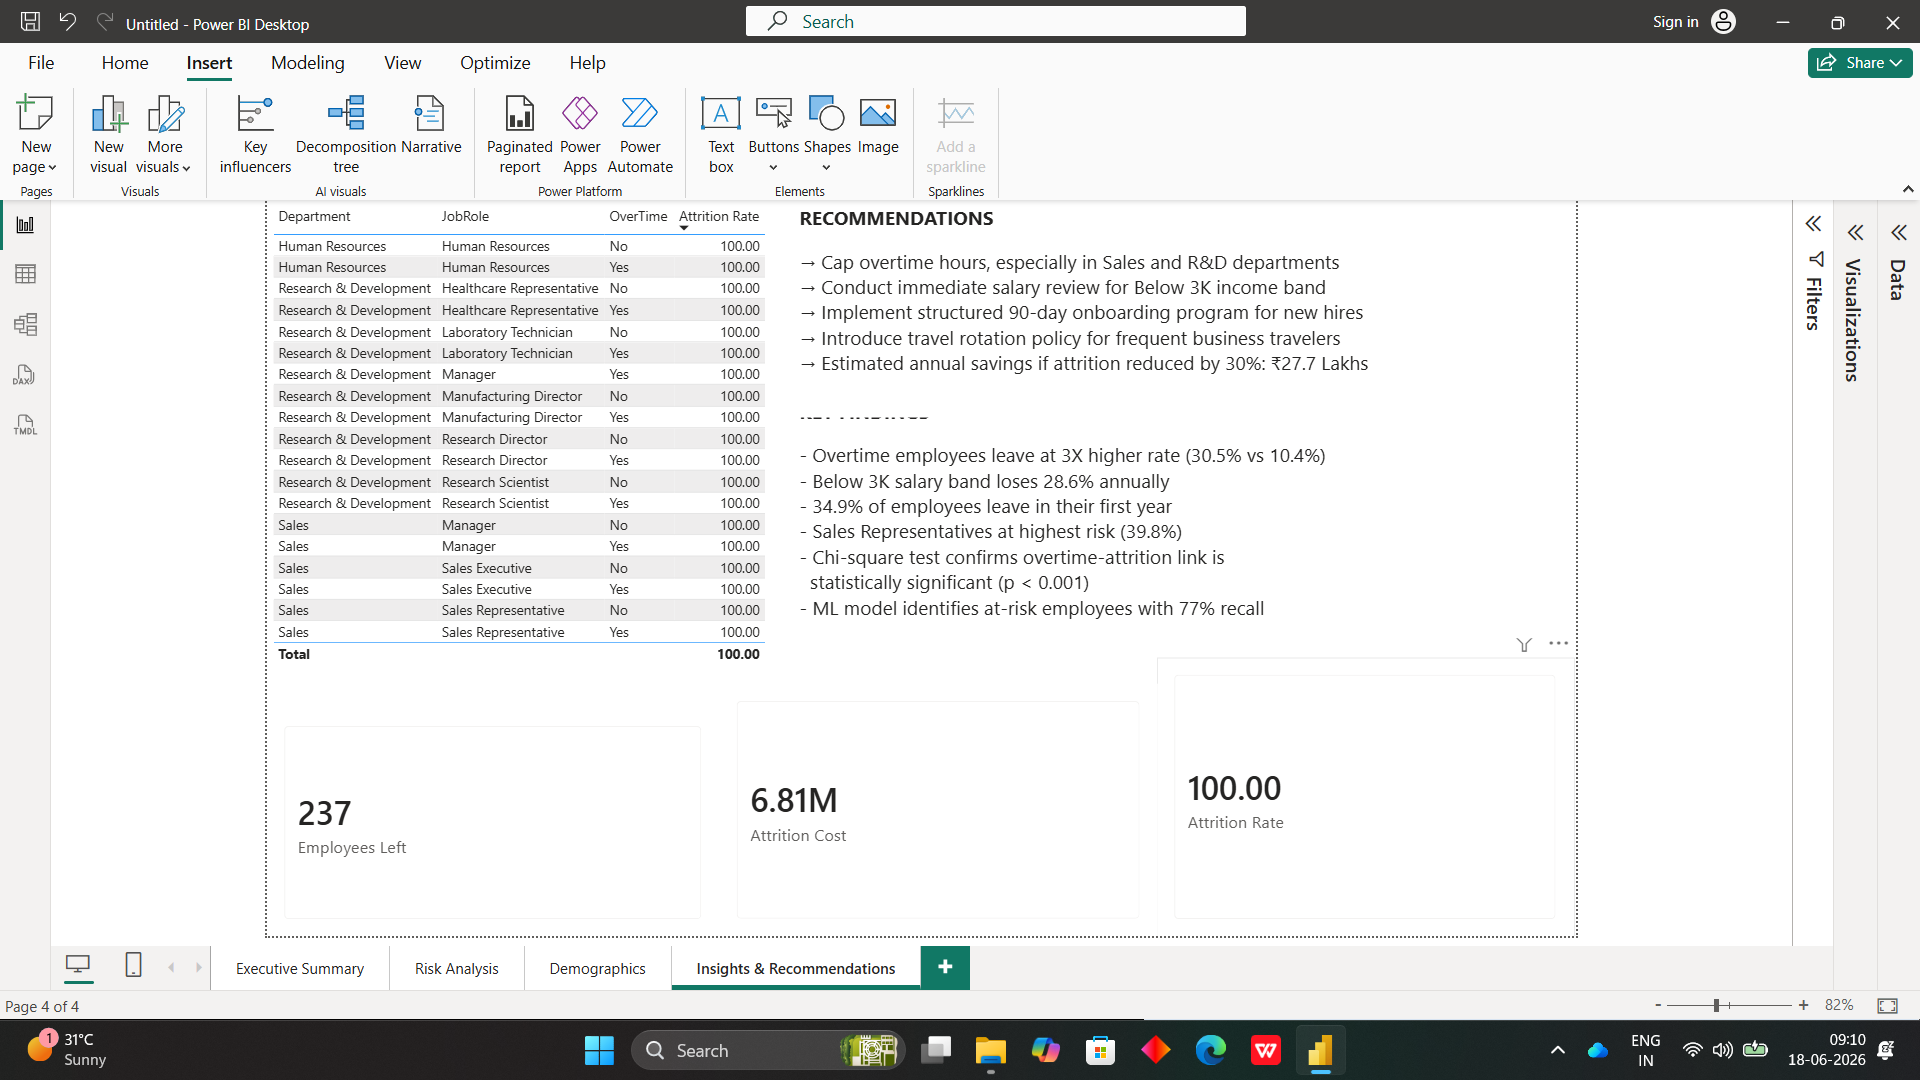

What the dashboard file says about the page in this screenshot:
{"tool":"powerbi","page":{"name":"Insights & Recommendations","canvas":[1280,720],"ordinal":3},"visuals":[{"type":"tableEx","fields":{"Values":["HR_Attrition_Cleaned.Department","HR_Attrition_Cleaned.JobRole","HR_Attrition_Cleaned.OverTime","HR_Attrition_Cleaned.Attrition Rate"]},"box":[0,0,515.8,473.7],"z":0},{"type":"cardVisual","fields":{"Data":["HR_Attrition_Cleaned.Attrition Rate"]},"box":[871.1,447.4,407.9,273.7],"z":1},{"type":"cardVisual","fields":{"Data":["HR_Attrition_Cleaned.Employees Left"]},"box":[0,497.4,442.1,223.7],"z":2},{"type":"cardVisual","fields":{"Data":["HR_Attrition_Cleaned.Attrition Cost"]},"box":[442.1,473.7,429,247.4],"z":3},{"type":"textbox","box":[515.8,189.5,763.2,239.5],"z":4},{"type":"textbox","box":[515.8,0,763.2,213.2],"z":5}]}

Visuals, with their boxes on the page's 1280x720 design canvas (x1, y1, x2, y2). These are canvas units, not pixel positions in the 1920x1080 screenshot, which may show the page scaled, cropped or inside an application window:
tableEx - HR_Attrition_Cleaned.Department x HR_Attrition_Cleaned.JobRole: {"left": 0, "top": 0, "right": 516, "bottom": 474}
cardVisual - HR_Attrition_Cleaned.Attrition Rate: {"left": 871, "top": 447, "right": 1279, "bottom": 721}
cardVisual - HR_Attrition_Cleaned.Employees Left: {"left": 0, "top": 497, "right": 442, "bottom": 721}
cardVisual - HR_Attrition_Cleaned.Attrition Cost: {"left": 442, "top": 474, "right": 871, "bottom": 721}
textbox: {"left": 516, "top": 190, "right": 1279, "bottom": 429}
textbox: {"left": 516, "top": 0, "right": 1279, "bottom": 213}
